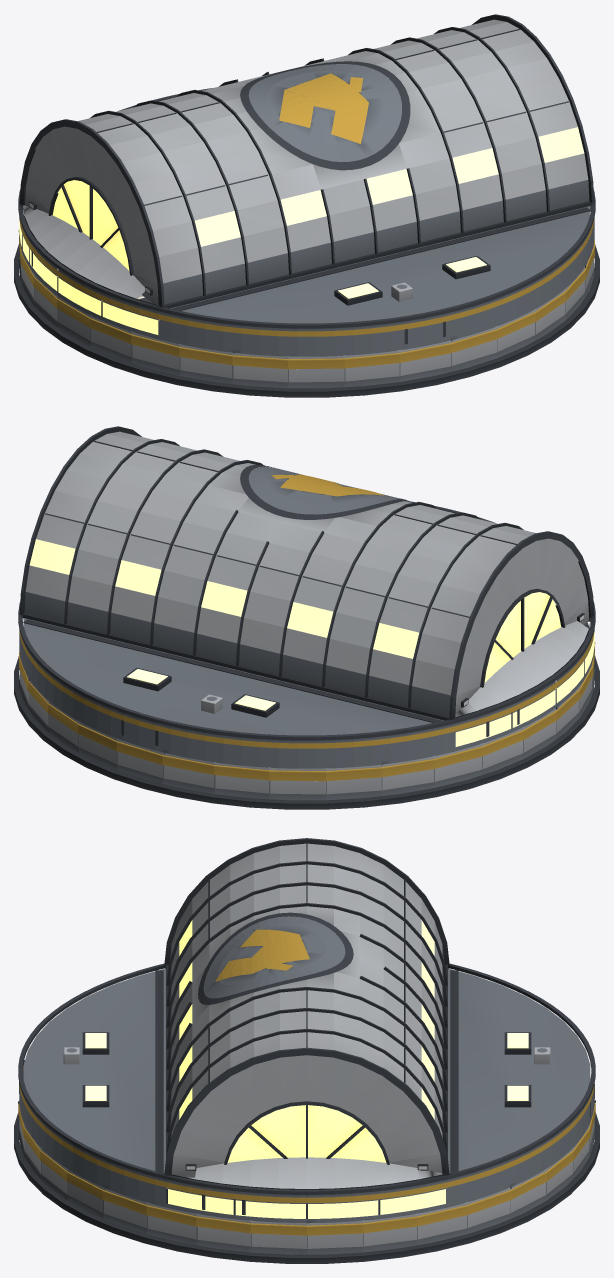
The model's file is residence_tube_l_far.glb.
The picture shows the model from 3 angles, top to bottom: view 1: azimuth 30°, elevation 25°; view 2: azimuth 150°, elevation 25°; view 3: azimuth 270°, elevation 25°; orthographic projection.
Parts seen in each view (by area): view 1: Roof, Base; view 2: Roof, Base; view 3: Roof, Base.
Part boxes in pixels (x1,y1,x2,y2): Roof: (18,14,595,356); Base: (14,215,599,397); Roof: (18,426,595,768); Base: (14,623,599,809); Roof: (18,838,595,1222); Base: (14,1100,599,1263).
Bounding box in the file's own units: 21.75 × 8.06 × 21.75.
